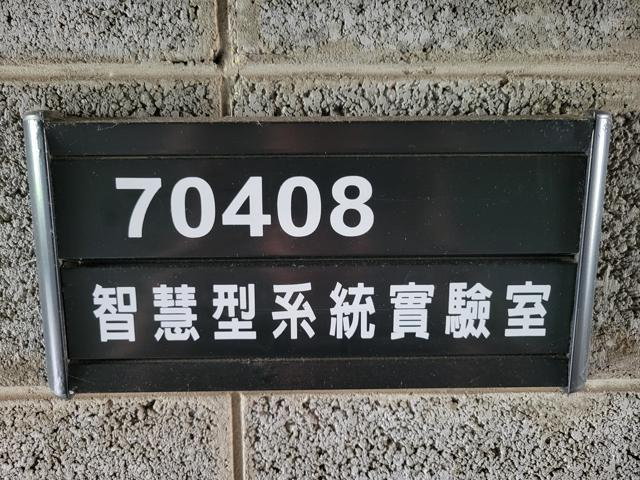doorplate: (12, 100, 621, 404)
